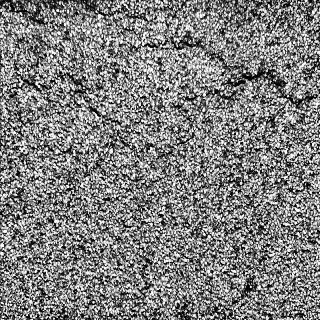crack: (0, 72, 320, 126), (0, 0, 236, 70)
